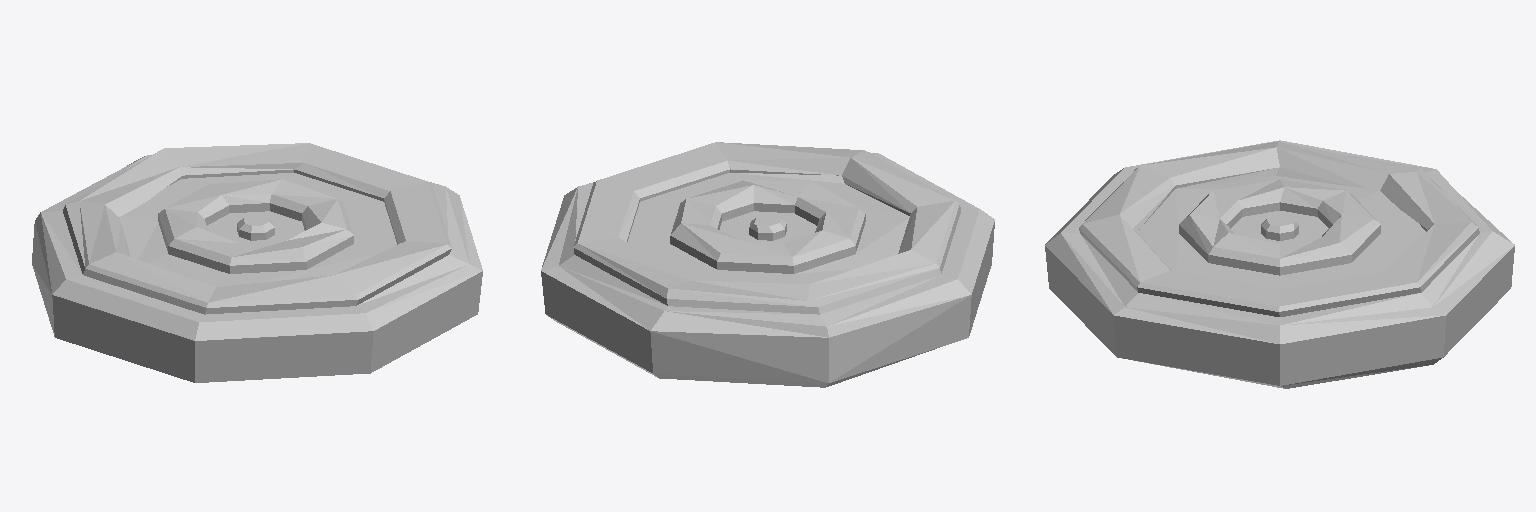
Rendered from tarca.obj.
3 views of the same model, side by side, from view 1: azimuth 30°, elevation 25°; view 2: azimuth 150°, elevation 25°; view 3: azimuth 270°, elevation 25° (orthographic).
Parts seen in each view (by area): view 1: Circle_Circle.001; view 2: Circle_Circle.001; view 3: Circle_Circle.001.
Part boxes in pixels (x1,y1,x2,y2): Circle_Circle.001: (32,143,482,382); Circle_Circle.001: (541,142,994,387); Circle_Circle.001: (1045,140,1514,388).
Size of the model in its own units: 1.67 by 0.3325 by 1.67.